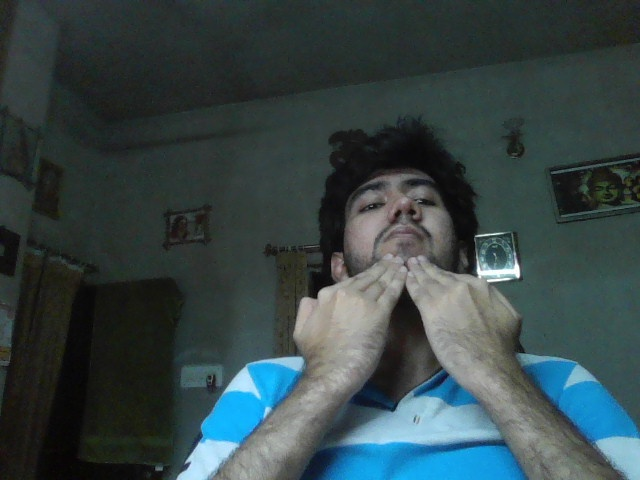ThankYou: (293, 253, 522, 359)
